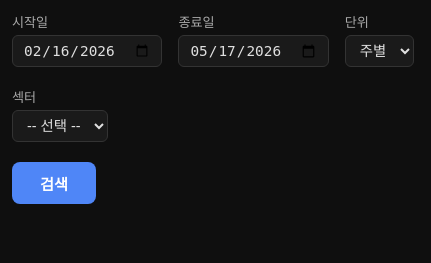
Test: 기업 검색 탭 › 섹터를 선택하지 않고 검색하면 검증 오류를 보여준다
Click the button: [54, 183] box [12,162,96,204]
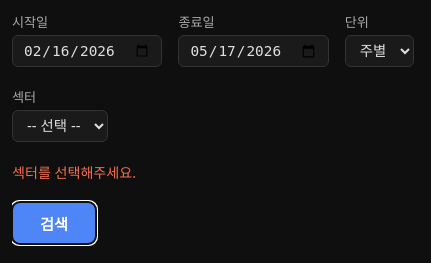
Expected: the text "섹터를 선택해주세요." is shown, [12,163,136,182]
